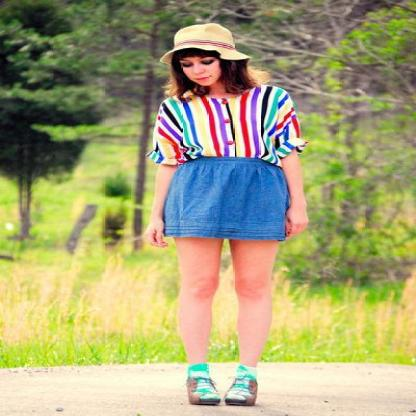hat: (146, 23, 250, 74)
shirt: (147, 84, 313, 170)
shoe: (186, 374, 258, 405)
skirt: (162, 158, 289, 240)
